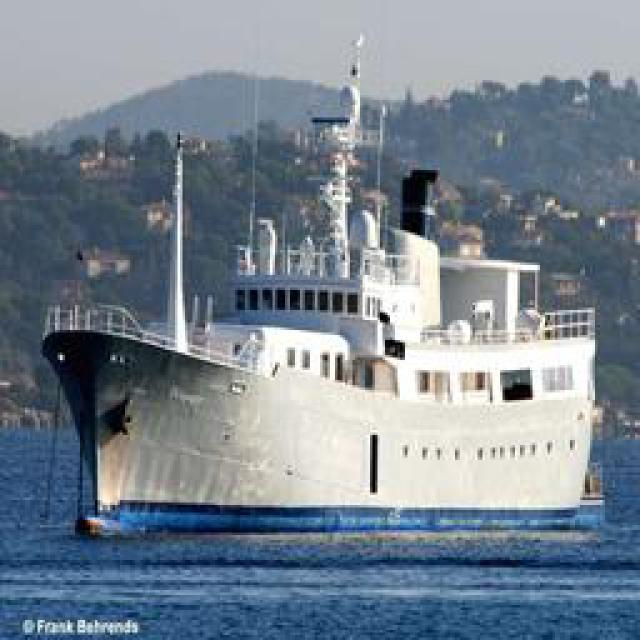Ship: (25, 62, 603, 570)
